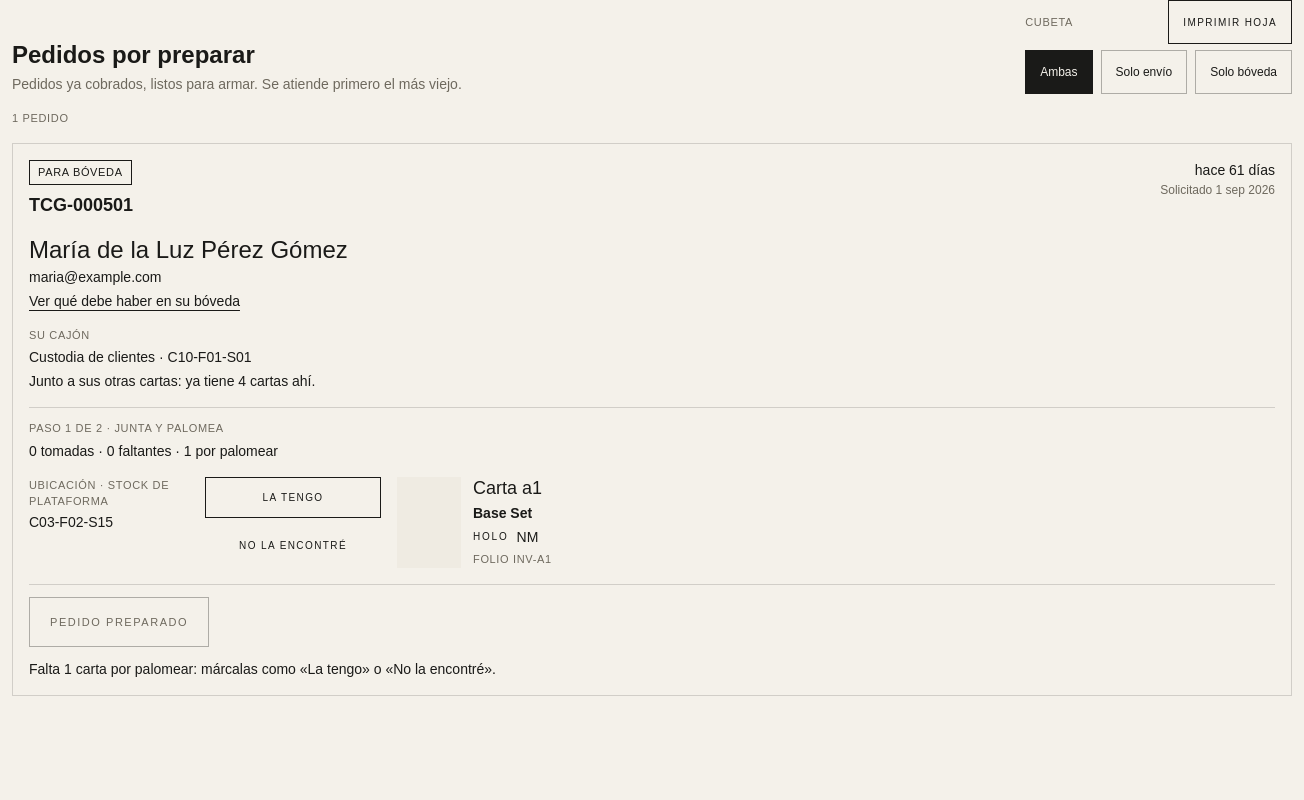
Test: PV · tarjeta «Para bóveda» (§36 · §M4-VAULT) › PV-9 · `409 PREPARATION_CLOSED` al palomear: la FILA ofrece «Deshacer preparado» ahí mismo
This screenshot has width=1304, height=800.
Click the button with aria-label "La tengo:" at (293, 497), box [205,476,381,518]
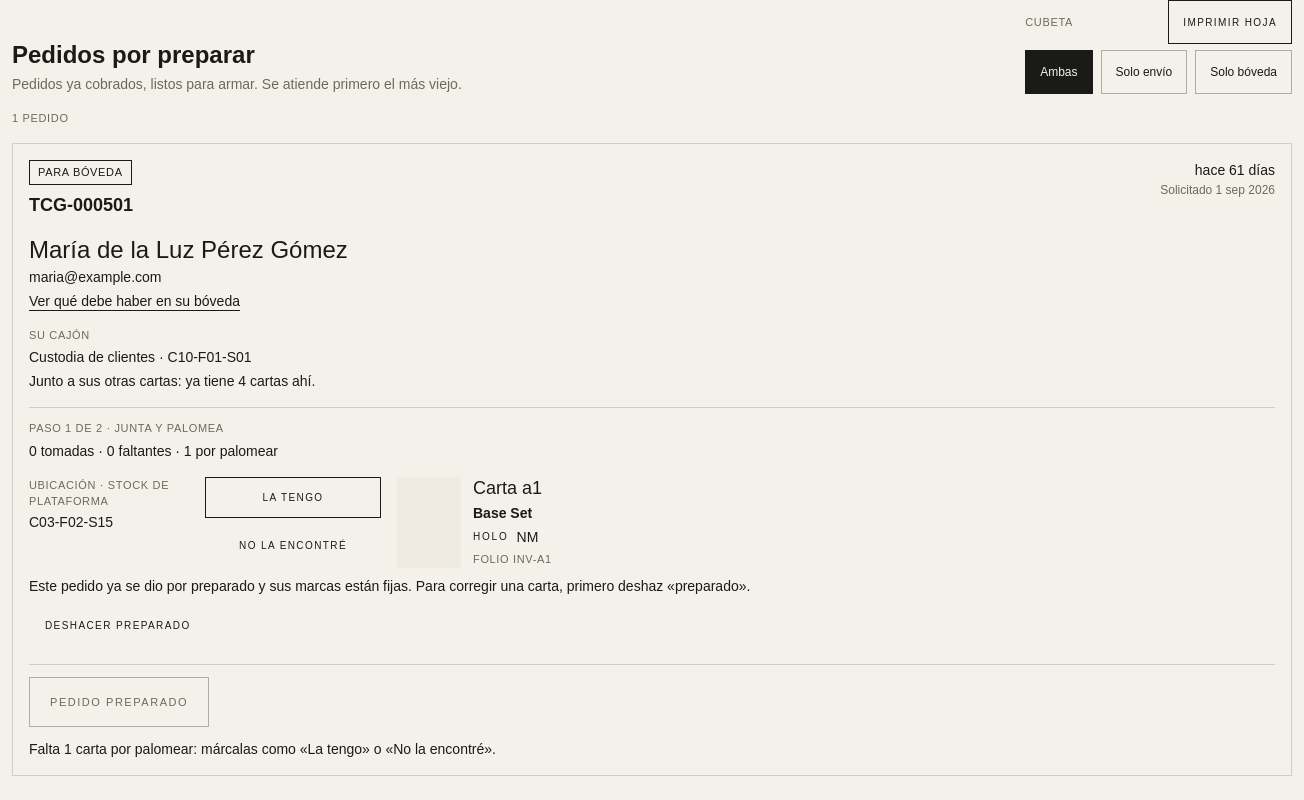
Now the 3rd message shows "Este pedido ya se dio por preparado y sus marcas están fijas.", box [29,578,750,594]
Now the button "Deshacer preparado" is shown, box [29,604,207,648]
